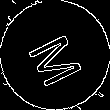M_NE: (22, 24, 88, 86)
